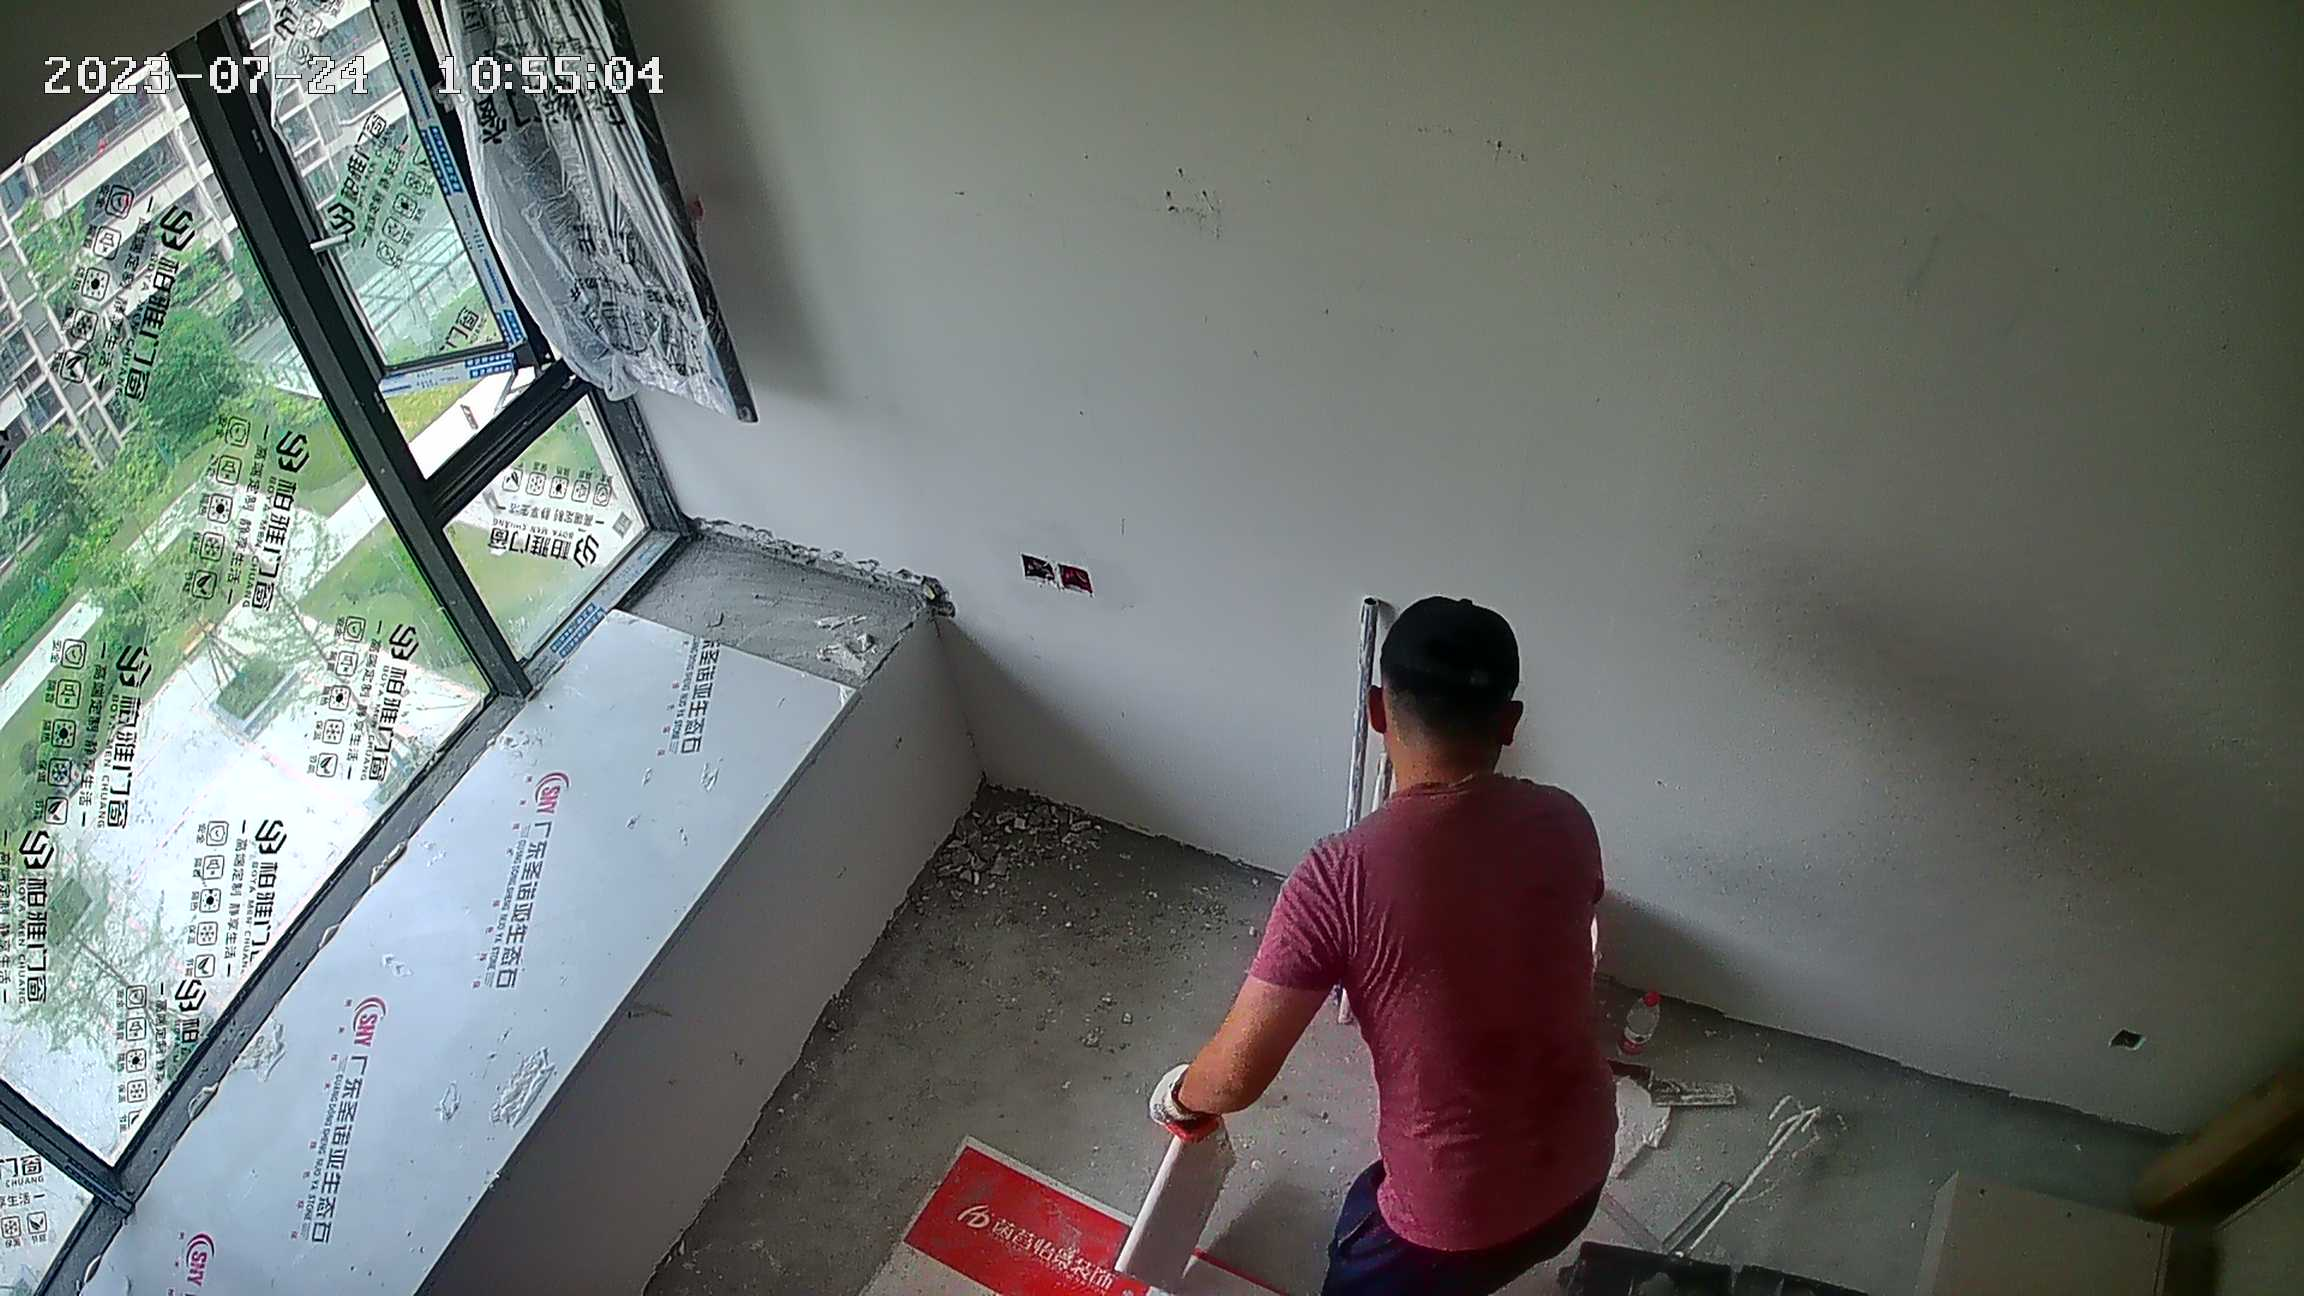people: (1152, 595, 1628, 1296)
window: (2, 1, 610, 1289)
